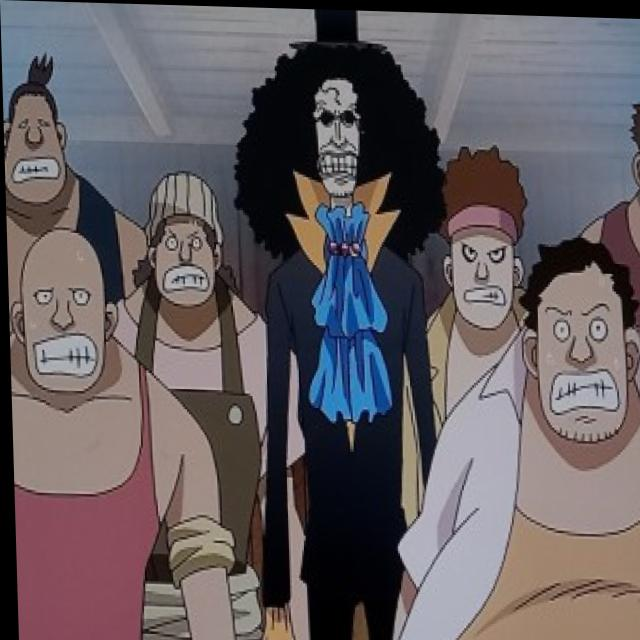Blook: (216, 5, 457, 293)
